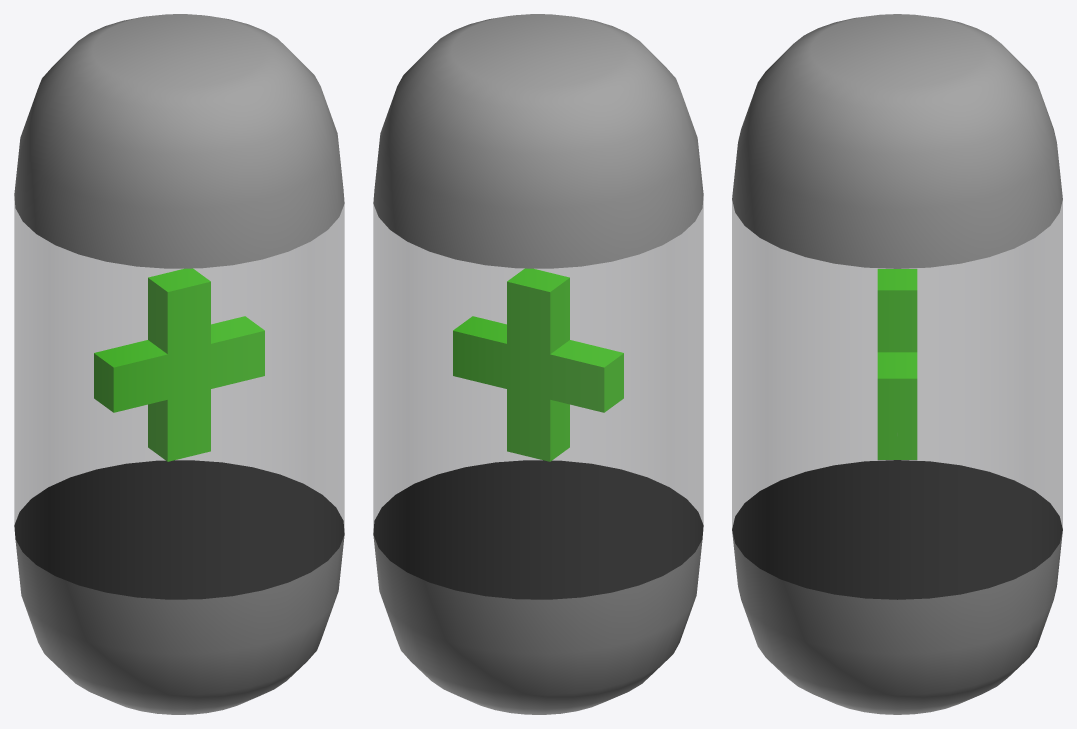
The model's file is HealthMesh.fbx.
3 renders of one model, left to right at view 1: azimuth 30°, elevation 25°; view 2: azimuth 150°, elevation 25°; view 3: azimuth 270°, elevation 25°, orthographic.
Parts seen in each view (by area): view 1: Container, Health; view 2: Container, Health; view 3: Container, Health.
Boxes of the visible parts, x1,y1,x2,y2 form: Container: [14, 14, 344, 714]; Health: [94, 268, 264, 461]; Container: [373, 14, 703, 714]; Health: [453, 268, 623, 461]; Container: [732, 14, 1062, 714]; Health: [877, 269, 917, 459].
Bounding box in the file's own units: 308 × 644 × 308.
